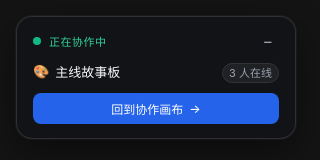
Test: FloatingCollaborationBadge › supports minimizing and expanding the floating badge
What coordinates should you click on to do the following:
click the button named "最小化协作提示"
I would click on:
 (268, 41)
Its box is [256, 31, 279, 51].
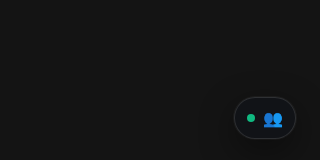
Expected: the button "回到协作画布" is gone
Expected: the element named "协作中悬浮标记" is shown
What coordinates should you click on to do the following:
click the element named "协作中悬浮标记"
I would click on:
 (265, 118)
Its box is [234, 97, 296, 139].
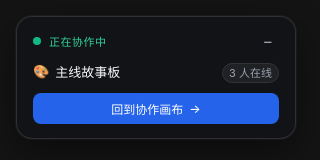
Expected: the text "回到协作画布" is shown, [111, 100, 183, 117]
